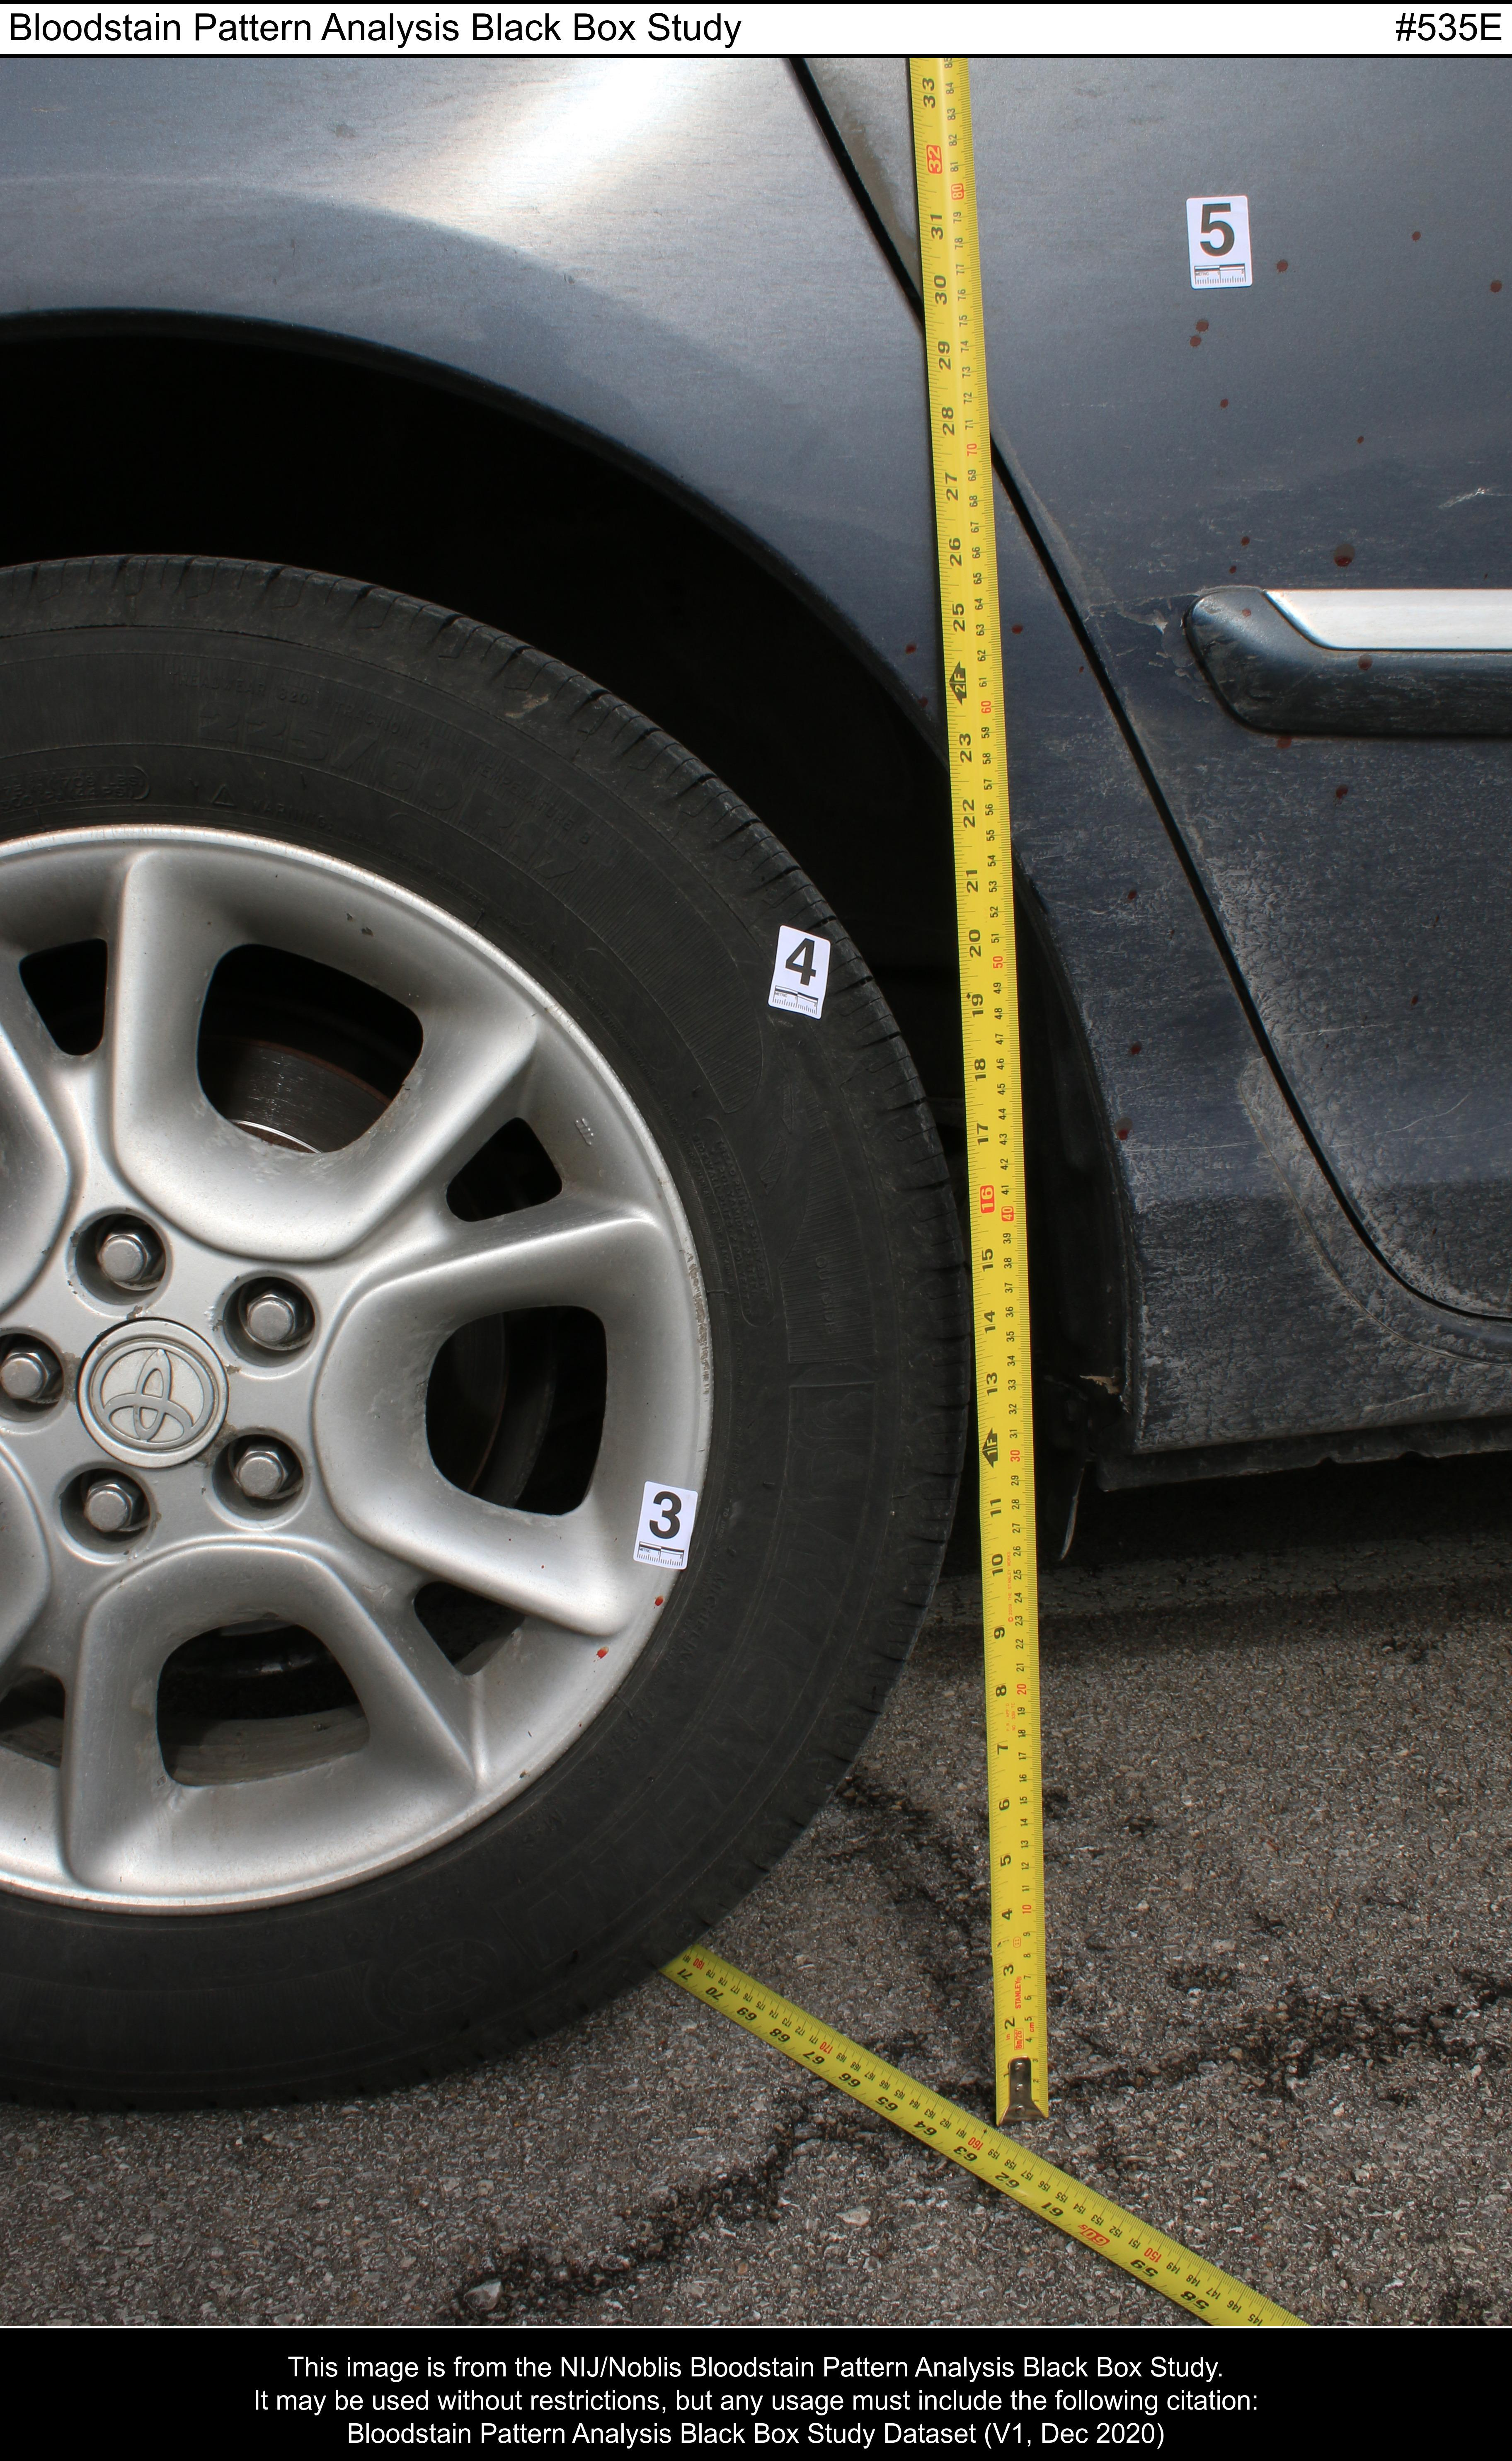Transfer: (1136, 190, 1512, 584)
